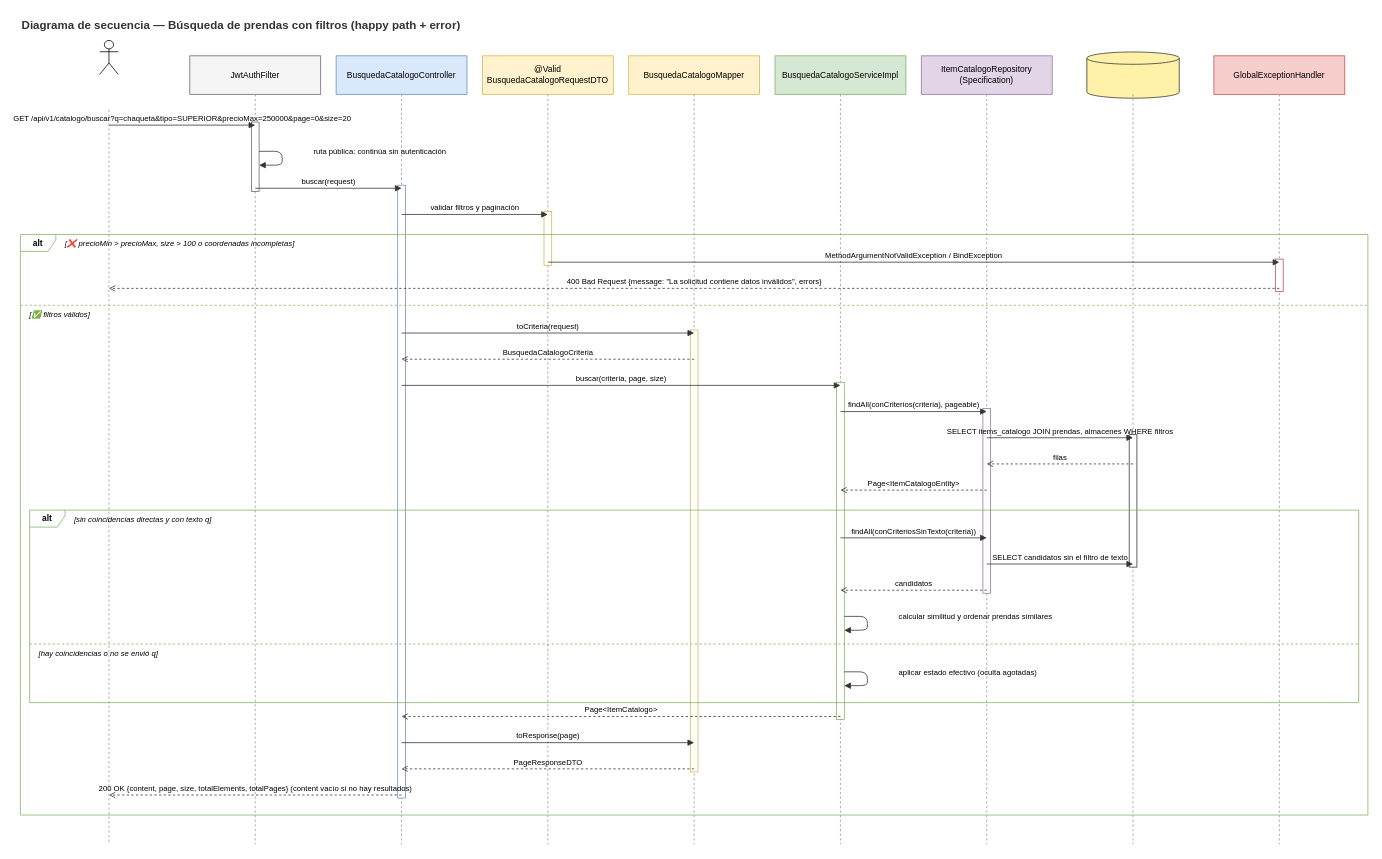
Image size: 1382x859. Some labels were removed from this diagram. Each missing label, with the centre of its shape:
"Cliente / Front" belongs at pixel 108 57.
"PostgreSQL" belongs at pixel 1132 74.
